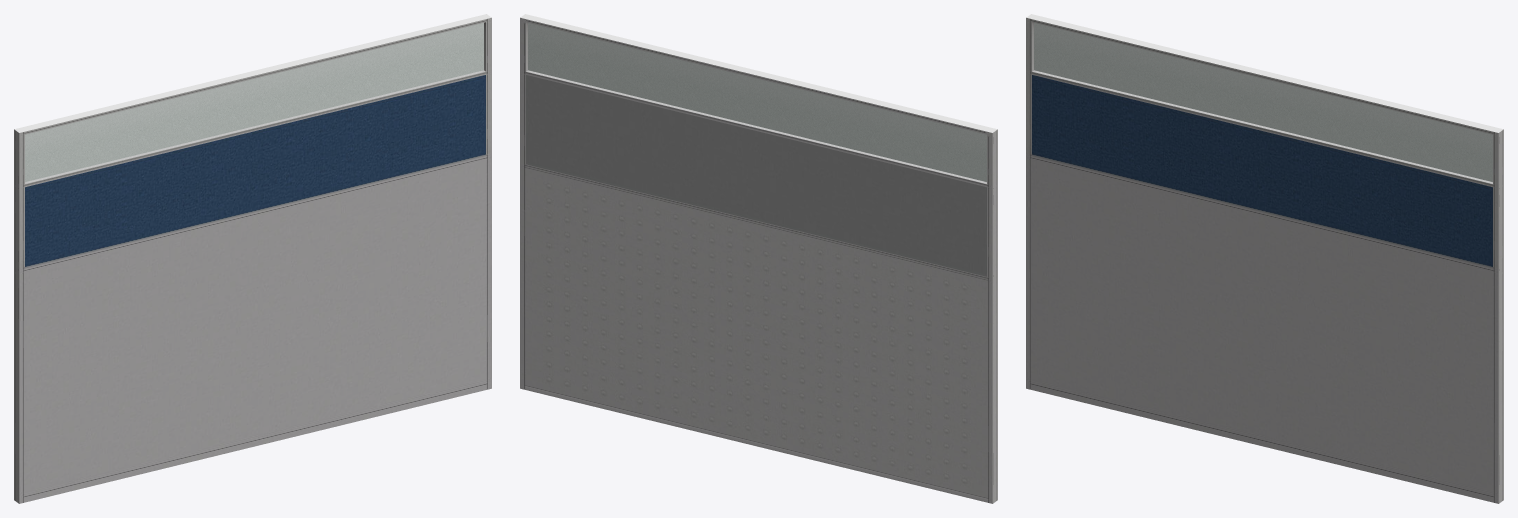
File: Partition.gltf
3 renders of one model, left to right at view 1: azimuth 30°, elevation 25°; view 2: azimuth 150°, elevation 25°; view 3: azimuth 330°, elevation 25°, orthographic.
Parts seen in each view (by area): view 1: partition, glass_A; view 2: partition, glass_A; view 3: partition, glass_A.
Boxes of the visible parts, x1=… form: partition: x1=14, y1=14, x2=491, y2=503; glass_A: x1=25, y1=23, x2=483, y2=181; partition: x1=520, y1=14, x2=997, y2=503; glass_A: x1=528, y1=23, x2=986, y2=181; partition: x1=1026, y1=14, x2=1503, y2=503; glass_A: x1=1034, y1=23, x2=1492, y2=181.
Size of the model in its own units: 16 by 12 by 0.3.
Materials: 2 (2 with a texture image).
